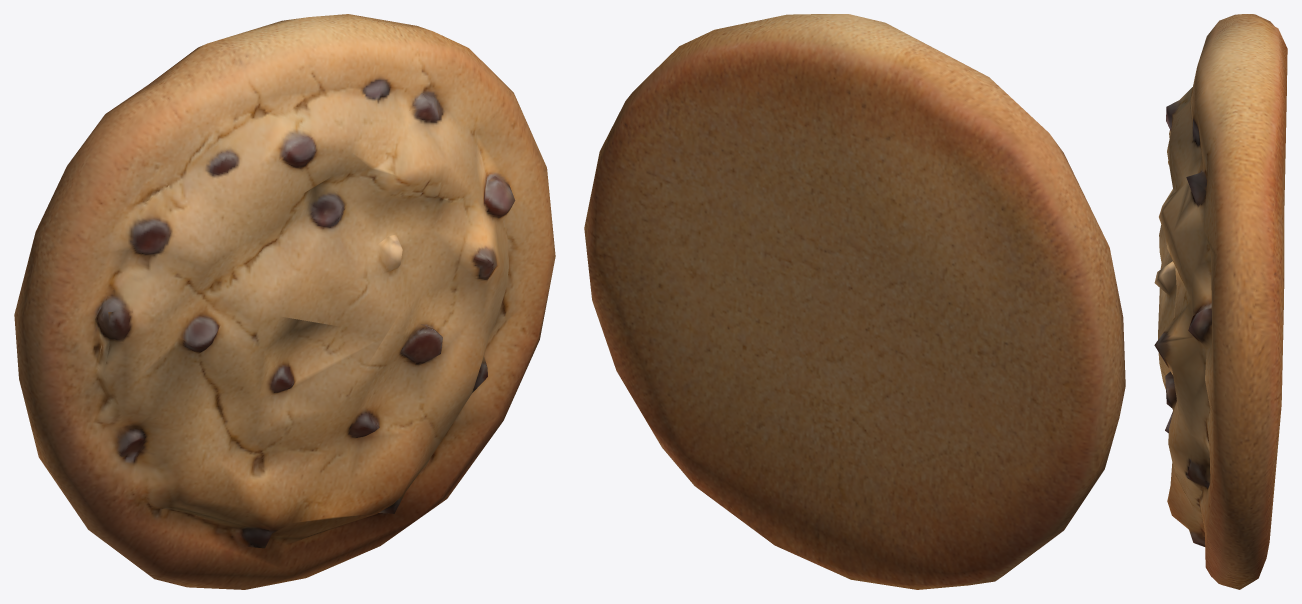
Rendered from Food_Cookie.fbx.
The picture shows the model from 3 angles, left to right: view 1: azimuth 30°, elevation 25°; view 2: azimuth 150°, elevation 25°; view 3: azimuth 270°, elevation 25°; orthographic projection. The views are drawn at different scales.
Visible parts, largest first — view 1: Food_Cookie; view 2: Food_Cookie; view 3: Food_Cookie.
Boxes of the visible parts, x1,y1,x2,y2 form: Food_Cookie: [14, 14, 555, 589]; Food_Cookie: [584, 14, 1125, 589]; Food_Cookie: [1154, 14, 1287, 589].
Size of the model in its own units: 0.26 by 0.2603 by 0.0604.
1 material, 1 textured.
